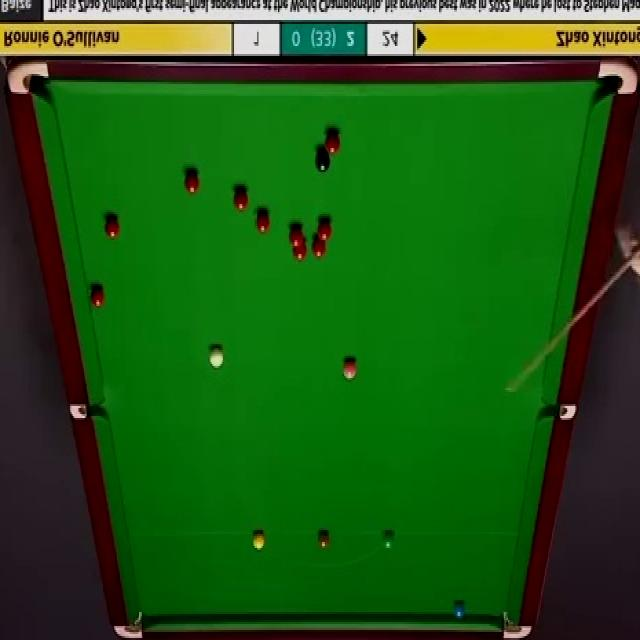black-ball: (315, 150, 329, 173)
blue-ball: (454, 598, 466, 620)
brown-ball: (318, 530, 331, 550)
green-ball: (381, 529, 395, 550)
pink-ball: (342, 354, 357, 382)
red-ball: (233, 186, 249, 212), (89, 284, 106, 308), (311, 236, 327, 261), (318, 215, 332, 243), (324, 132, 340, 156), (254, 211, 270, 235), (184, 170, 198, 197), (293, 236, 307, 262), (105, 217, 118, 240), (290, 227, 302, 247)
white-ball: (209, 346, 224, 369)
yellow-ball: (251, 530, 266, 551)
